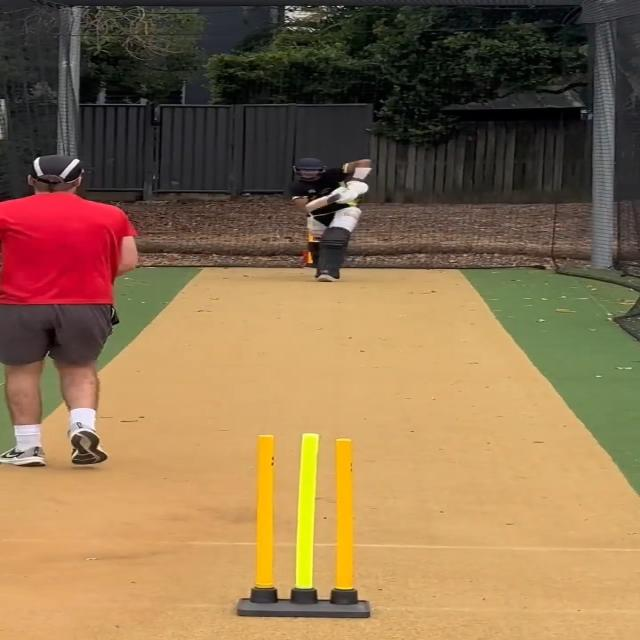stump: (235, 430, 369, 620)
